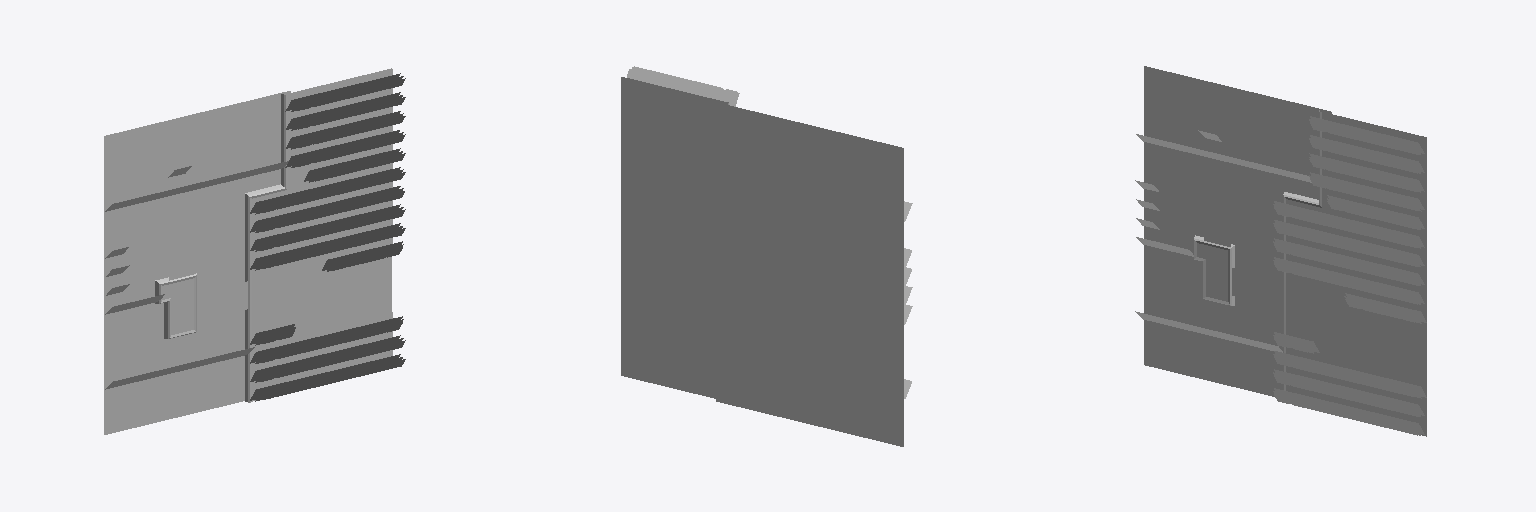
Rendered from Plat_full_02_17.obj.
3 views of the same model, side by side, from view 1: azimuth 30°, elevation 25°; view 2: azimuth 150°, elevation 25°; view 3: azimuth 330°, elevation 25° (orthographic).
Visible parts, largest first — view 1: map; view 2: map; view 3: map.
Part boxes in pixels (x1,y1,x2,y2): map: (104,68,405,434); map: (621,66,912,446); map: (1135,66,1426,436).
Size of the model in its own units: 32.25 by 32.12 by 3.14.